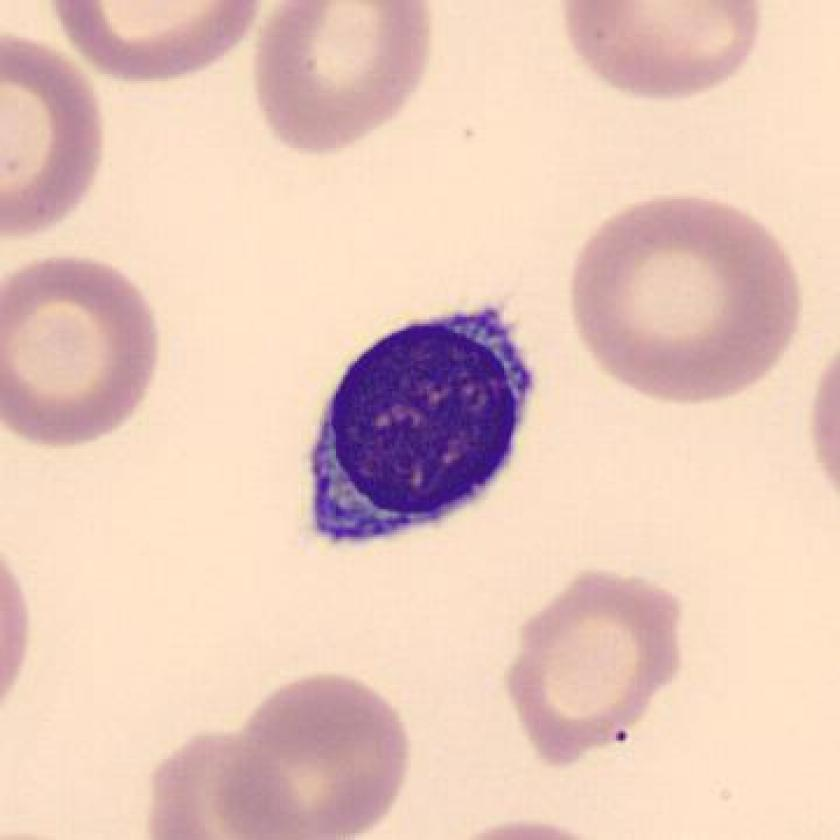lymphocyte: (286, 288, 552, 575)
